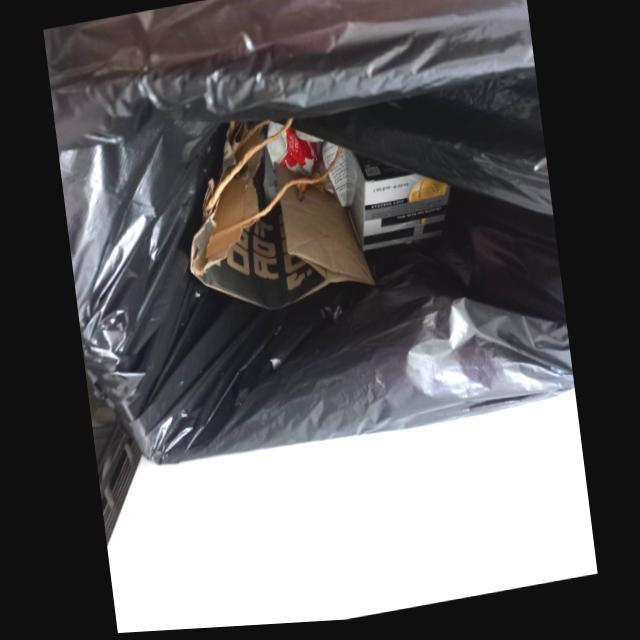paper: (190, 121, 374, 312), (344, 153, 449, 256), (266, 122, 323, 181)
